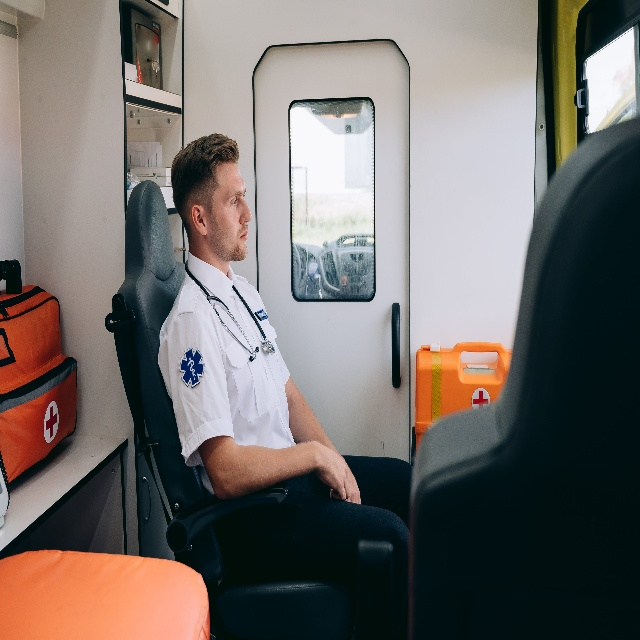Sin_guantes: (316, 447, 360, 504)
